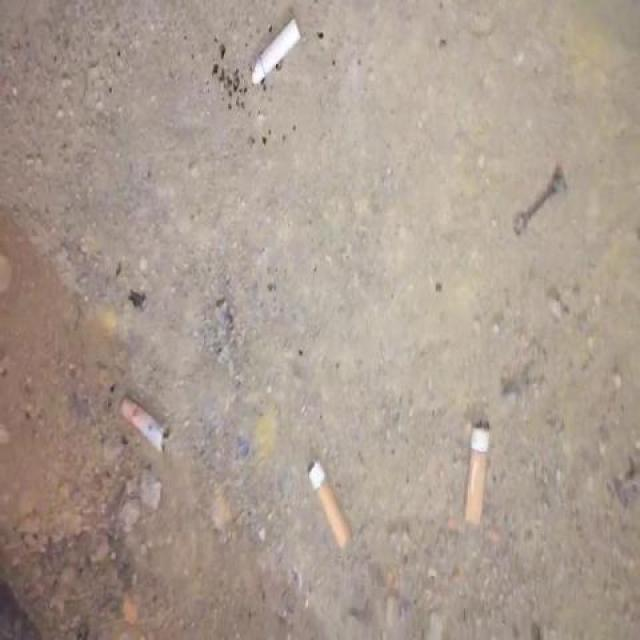non-organic waste: (302, 454, 359, 558), (250, 13, 306, 94), (119, 385, 174, 463), (460, 414, 493, 527)
